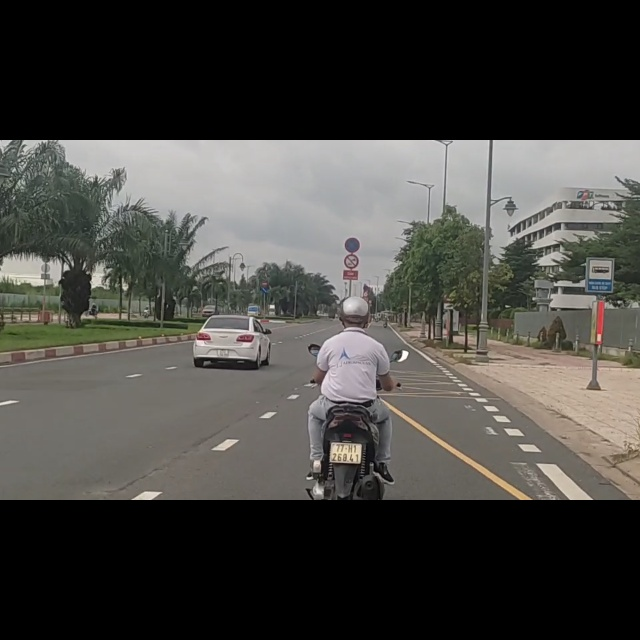bien_hieu_lenh: (585, 205, 615, 280), (342, 200, 360, 230), (343, 172, 361, 200)
